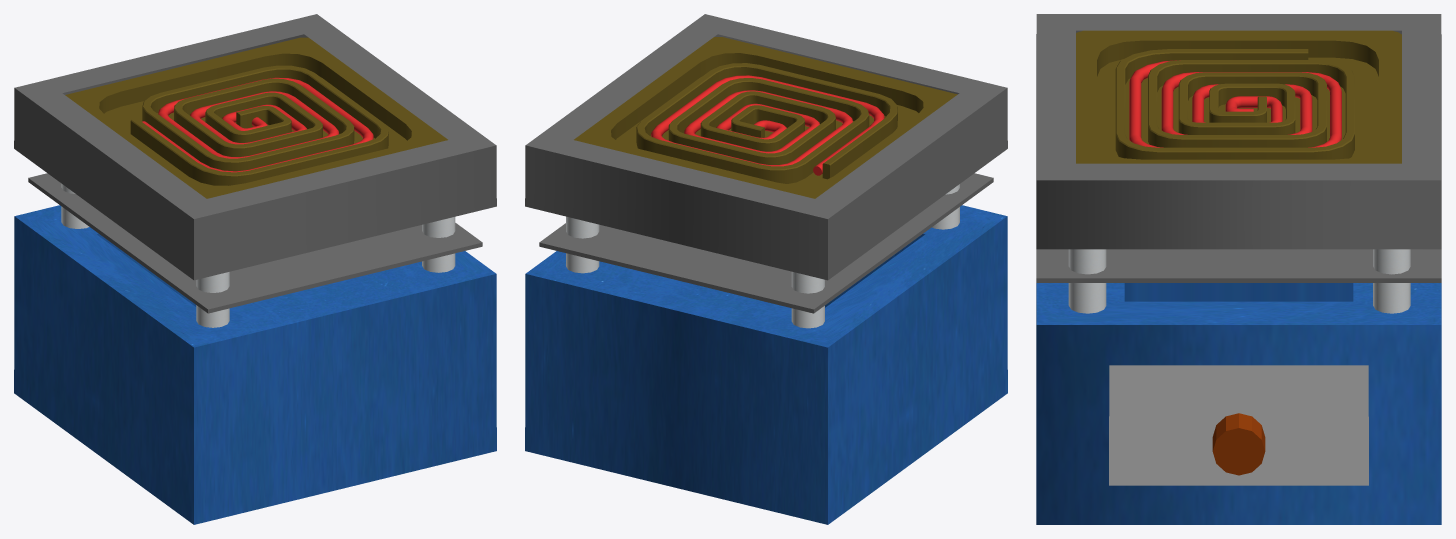
3 views of the same model, side by side, from view 1: azimuth 30°, elevation 25°; view 2: azimuth 150°, elevation 25°; view 3: azimuth 270°, elevation 25° (orthographic). The views are drawn at different scales.
Visible parts, largest first — view 1: SM_电炉; view 2: SM_电炉; view 3: SM_电炉.
Part boxes in pixels (x1,y1,x2,y2): SM_电炉: (14, 14, 496, 524); SM_电炉: (525, 14, 1007, 524); SM_电炉: (1036, 14, 1441, 524).
Bounding box in the file's own units: 195 × 162 × 173.
